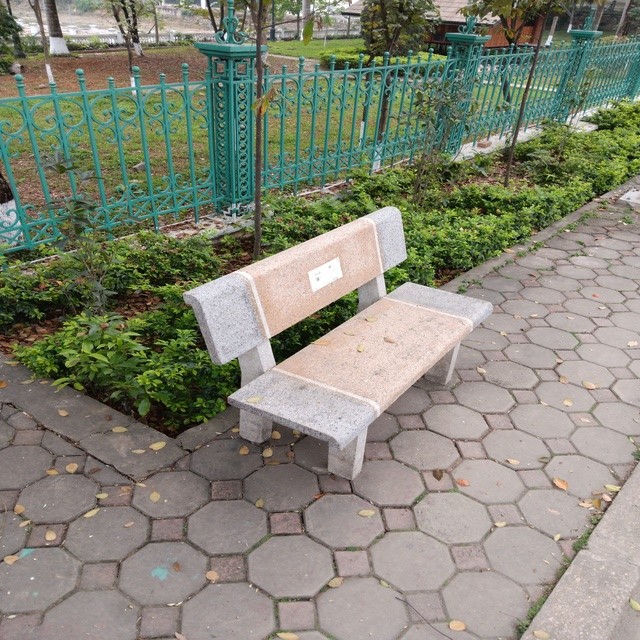gheda: (187, 205, 492, 474)
